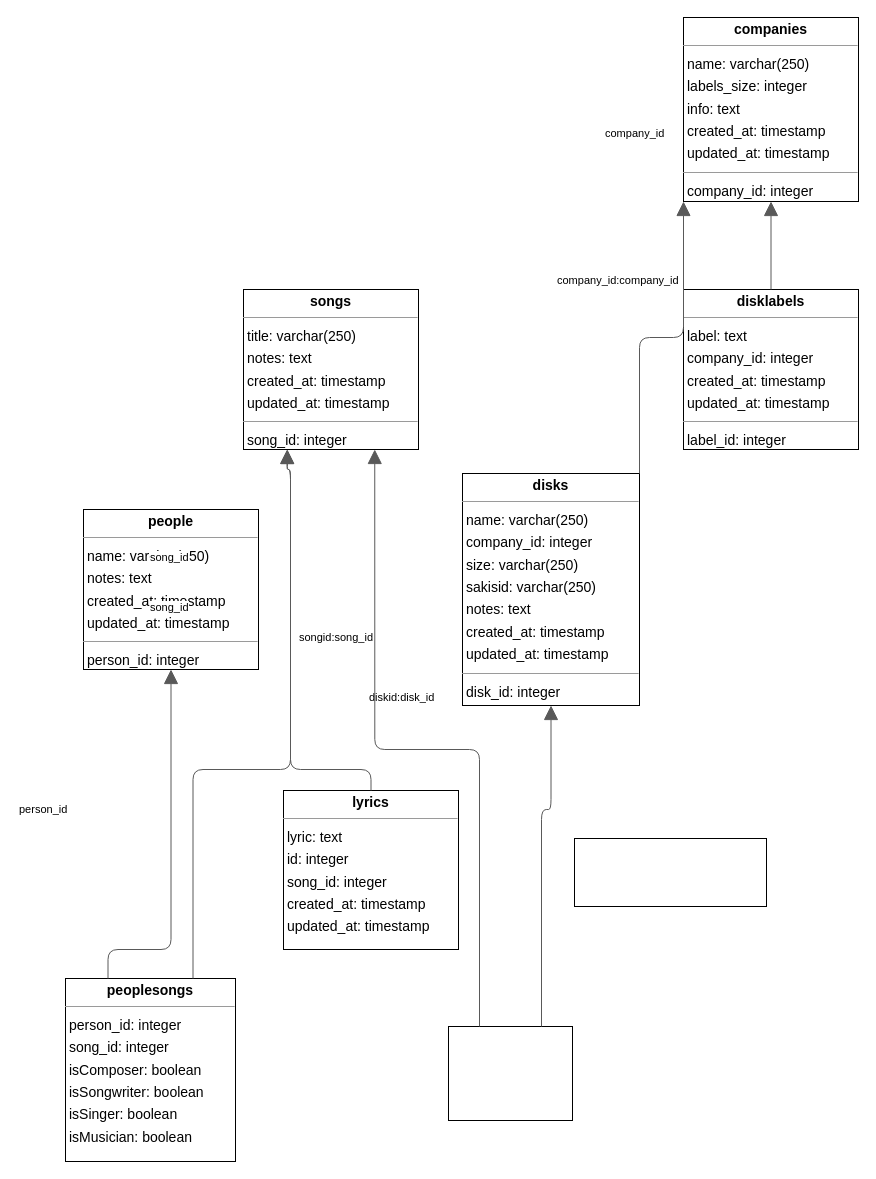
The diagram is 876 pixels wide and 1179 high, and some of its shapes have lost their labels. Here are the shapes that lost their labels. From the top down, the centre of each, then its label:
At (x=670, y=872): "alembic_version version_num: varchar(32)".
At (x=510, y=1073): "discsongs diskid: integer songid: integer".
